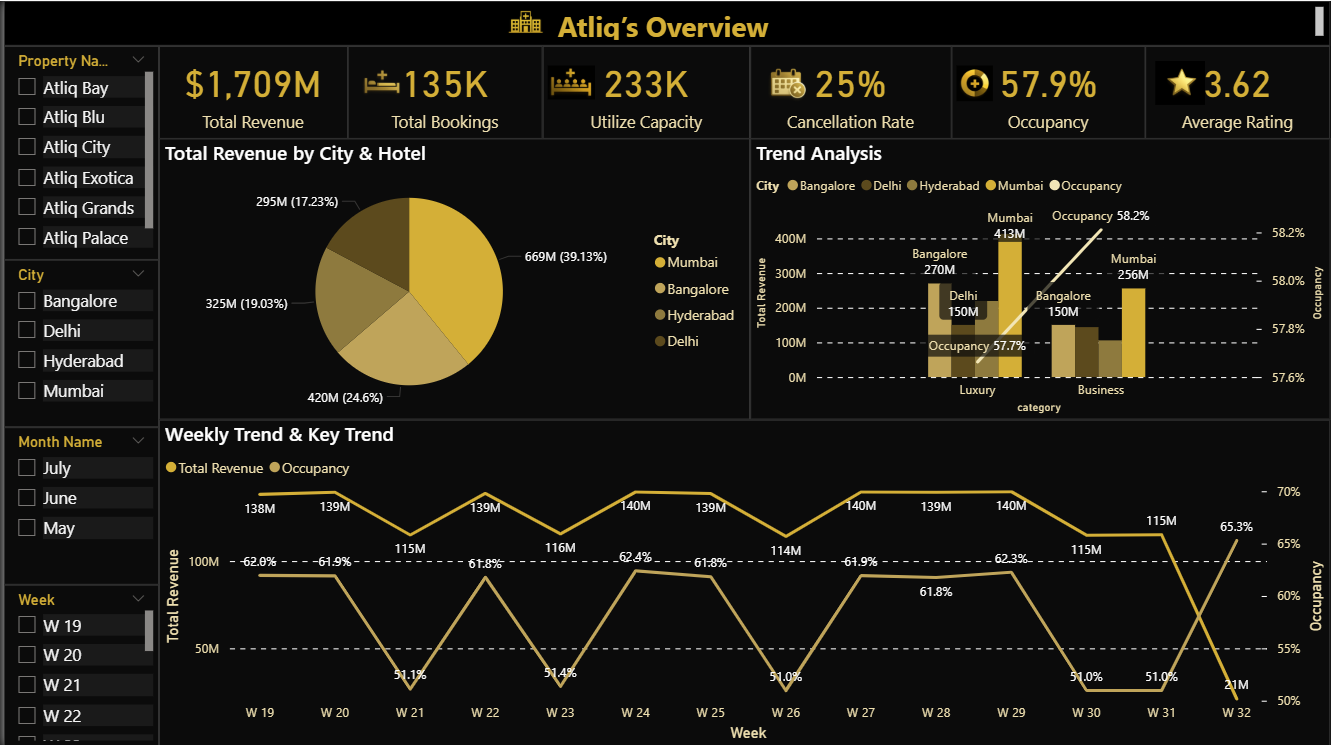

The dashboard page shown, as its layout file describes it:
{"tool":"powerbi","page":{"name":"Dashboard 2","canvas":[1366,720],"ordinal":4},"visuals":[{"type":"textbox","box":[0,0,1280,43.4],"z":0},{"type":"slicer","fields":{"Values":["dim_hotels.property_name"]},"box":[0,43.4,149.6,206.3],"z":1000},{"type":"slicer","fields":{"Values":["dim_hotels.city"]},"box":[0,249.7,149.6,161.7],"z":2000},{"type":"slicer","fields":{"Values":["dim_date.Month Name"]},"box":[0,411.4,149.6,152],"z":3000},{"type":"slicer","fields":{"Values":["dim_date.week no"]},"box":[0,563.4,149.6,156.8],"z":4000},{"type":"card","fields":{"Values":["fact_bookings.Revenue"]},"box":[149.6,43.4,182.2,89.3],"z":5000},{"type":"card","fields":{"Values":["fact_bookings.Total Bookings"]},"box":[331.8,43.4,188.2,89.3],"z":6000},{"type":"card","fields":{"Values":["fact_aggregated_bookings.Total Capacity"]},"box":[520,43.4,200.3,89.3],"z":7000},{"type":"card","fields":{"Values":["fact_bookings.Cancellation %"]},"box":[720.2,43.4,194.2,89.3],"z":8000},{"type":"card","fields":{"Values":["fact_aggregated_bookings.Occupancy %"]},"box":[914.5,43.4,187,89.3],"z":9000},{"type":"card","fields":{"Values":["fact_aggregated_bookings.Average Rating"]},"box":[1101.5,43.4,178.6,89.3],"z":10000},{"type":"pieChart","title":"Total Revenue by City & Hotel","fields":{"Category":["dim_hotels.City"],"Y":["fact_bookings.Total Revenue"]},"box":[149.6,132.7,570.6,271.4],"z":11000},{"type":"image","box":[457.2,0,90.5,43.4],"z":12000},{"type":"image","box":[728.7,54.3,51.9,50.7],"z":13000},{"type":"image","box":[340.2,53.1,49.5,51.9],"z":14000},{"type":"image","box":[1111.1,57.9,48.3,42.2],"z":15000},{"type":"image","box":[520,54.3,55.5,49.5],"z":16000},{"type":"image","box":[914.5,54.3,44.6,50.7],"z":17000},{"type":"lineChart","title":"Weekly Trend & Key Trend","fields":{"Category":["dim_date.Week"],"Y":["fact_bookings.Total Revenue"],"Y2":["fact_aggregated_bookings.Occupancy"]},"box":[149.6,404.2,1130.4,316.1],"z":18000},{"type":"lineClusteredColumnComboChart","title":"Trend Analysis","fields":{"Category":["dim_hotels.category"],"Y":["fact_bookings.Total Revenue"],"Y2":["fact_aggregated_bookings.Occupancy"],"Series":["dim_hotels.City"]},"box":[720.2,132.7,559.8,271.4],"z":19000}]}

Visuals, with their boxes on the page's 1366x720 design canvas (x1, y1, x2, y2). These are canvas units, not pixel positions in the 1331x745 screenshot, which may show the page scaled, cropped or inside an application window:
textbox: locate(0, 0, 1280, 43)
slicer - dim_hotels.property_name: locate(0, 43, 150, 250)
slicer - dim_hotels.city: locate(0, 250, 150, 411)
slicer - dim_date.Month Name: locate(0, 411, 150, 563)
slicer - dim_date.week no: locate(0, 563, 150, 720)
card - fact_bookings.Revenue: locate(150, 43, 332, 133)
card - fact_bookings.Total Bookings: locate(332, 43, 520, 133)
card - fact_aggregated_bookings.Total Capacity: locate(520, 43, 720, 133)
card - fact_bookings.Cancellation %: locate(720, 43, 914, 133)
card - fact_aggregated_bookings.Occupancy %: locate(914, 43, 1102, 133)
card - fact_aggregated_bookings.Average Rating: locate(1102, 43, 1280, 133)
"Total Revenue by City & Hotel" pieChart: locate(150, 133, 720, 404)
image: locate(457, 0, 548, 43)
image: locate(729, 54, 781, 105)
image: locate(340, 53, 390, 105)
image: locate(1111, 58, 1159, 100)
image: locate(520, 54, 576, 104)
image: locate(914, 54, 959, 105)
"Weekly Trend & Key Trend" lineChart: locate(150, 404, 1280, 720)
"Trend Analysis" lineClusteredColumnComboChart: locate(720, 133, 1280, 404)
